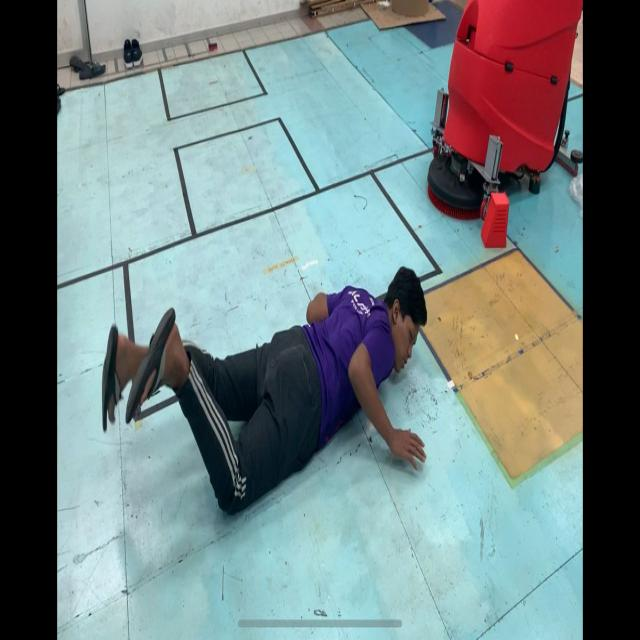Fall-Detected: (88, 240, 439, 550)
